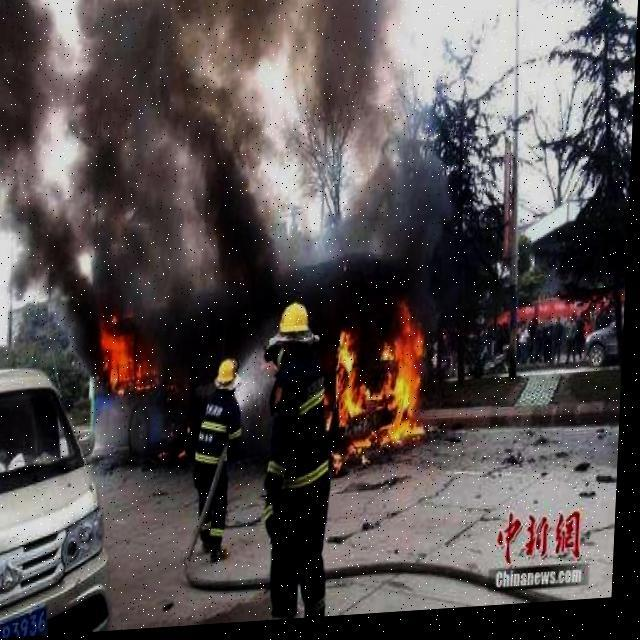Fire: (324, 282, 442, 475), (90, 297, 188, 408)
